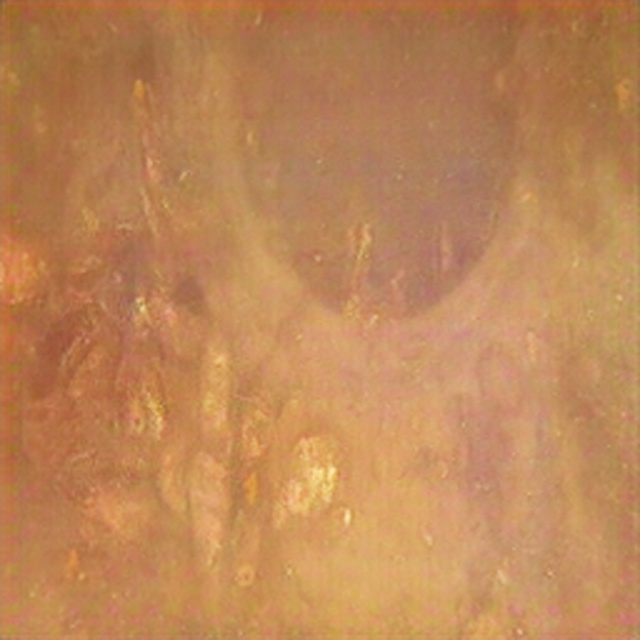mine: (59, 0, 640, 640)
